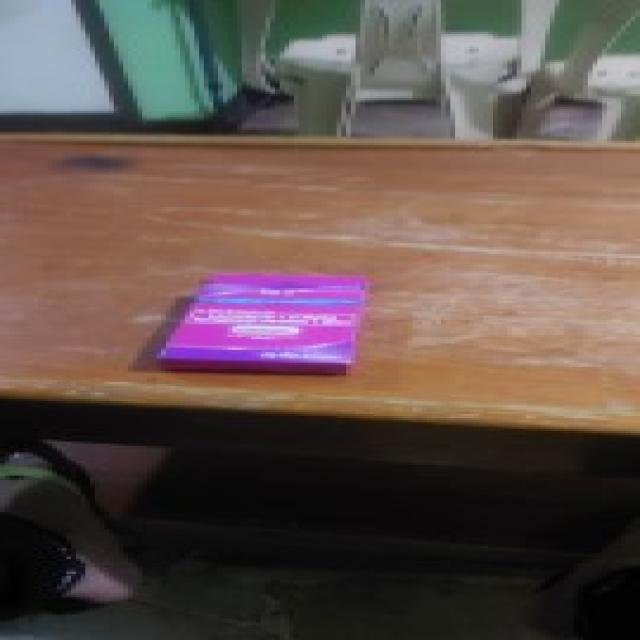Cacat: (197, 270, 365, 367)
